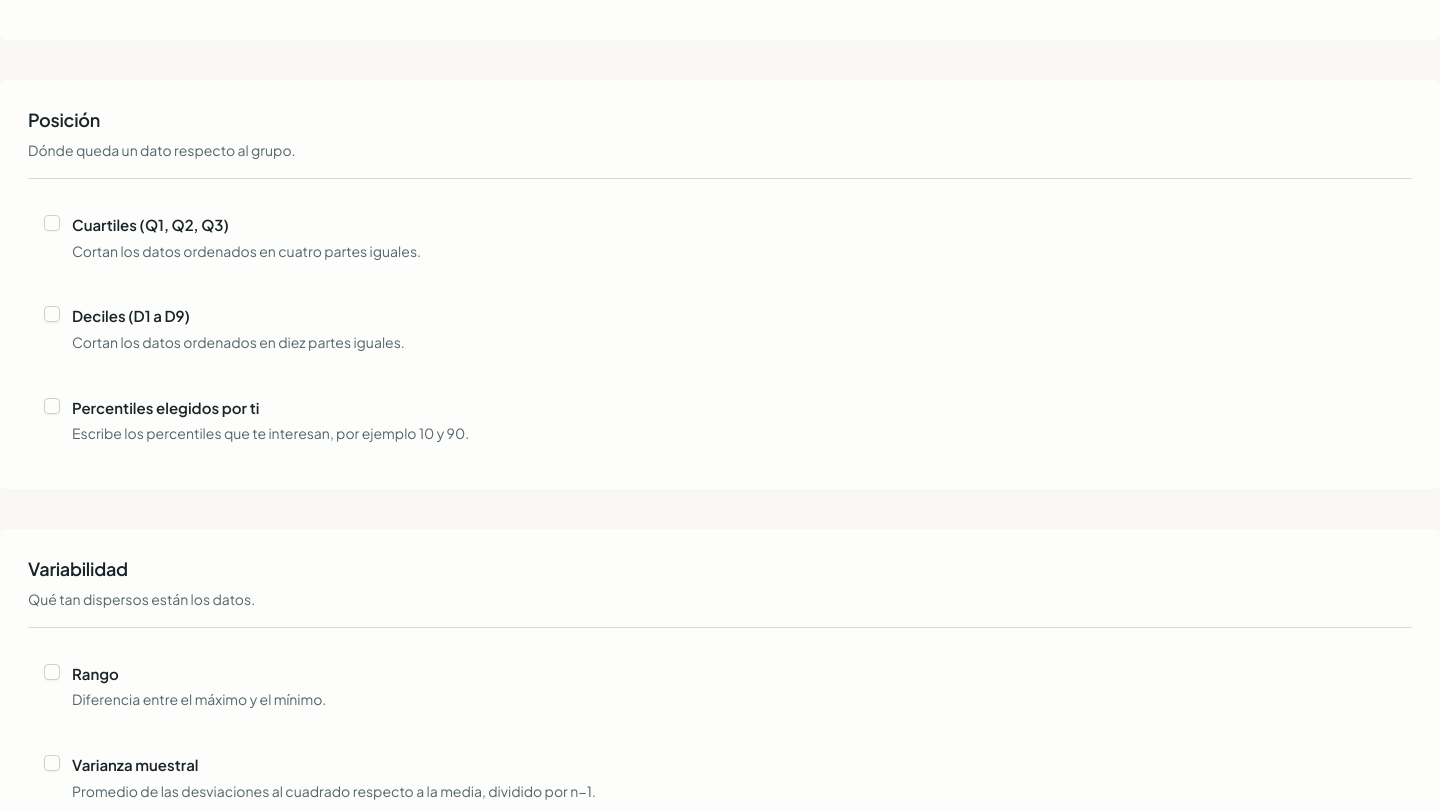
Test: StepCalculations › pide la lista de percentiles cuando se marca la opción
(page scrolled)
Click the checkbox named "Percentiles elegidos por ti" next to "Percentiles elegidos por ti" at {"x": 52, "y": 406}, box [44,398,60,414]
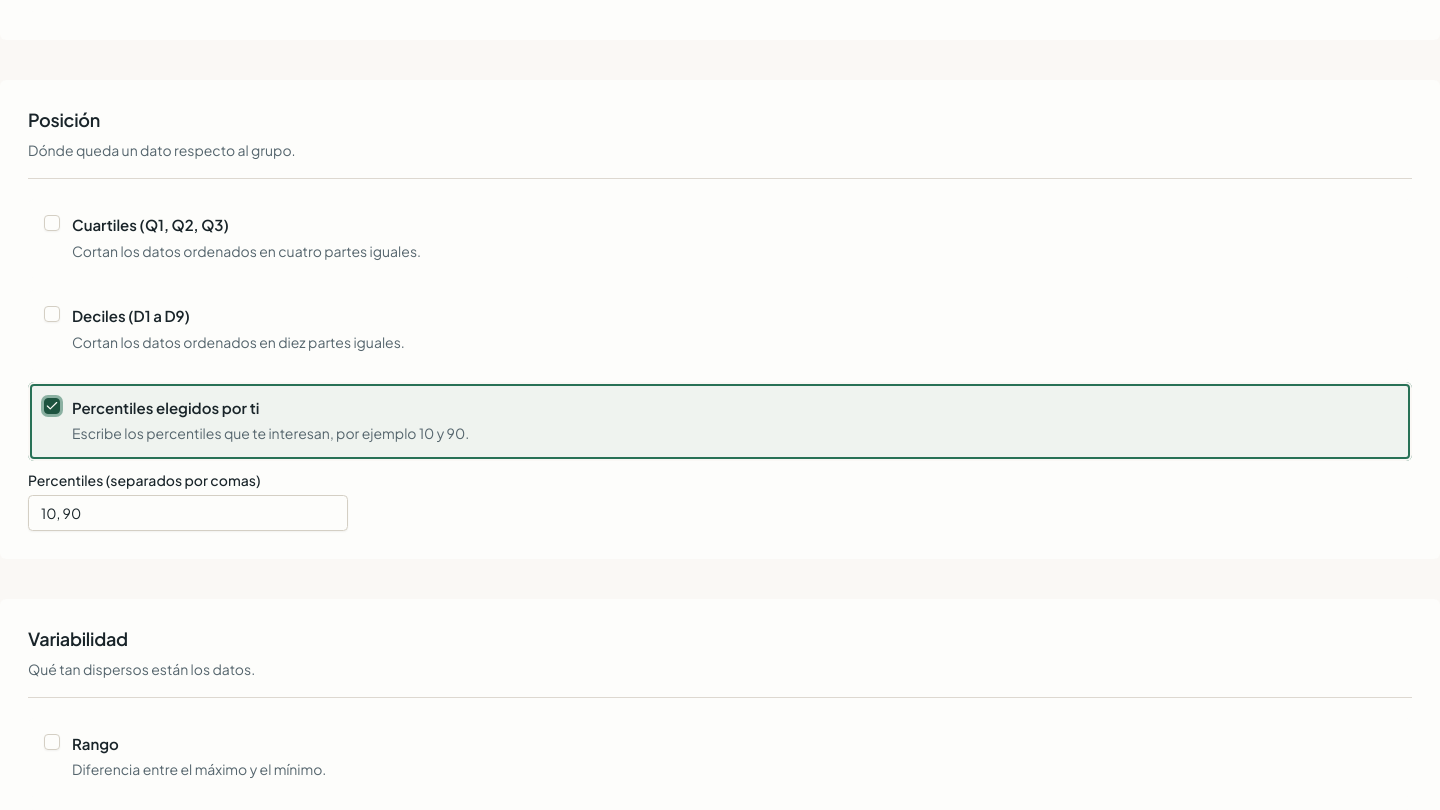
Replace the text in the field labelled "Percentiles (separados por comas)" with "abc" at {"x": 188, "y": 513}, box [28,495,348,531]
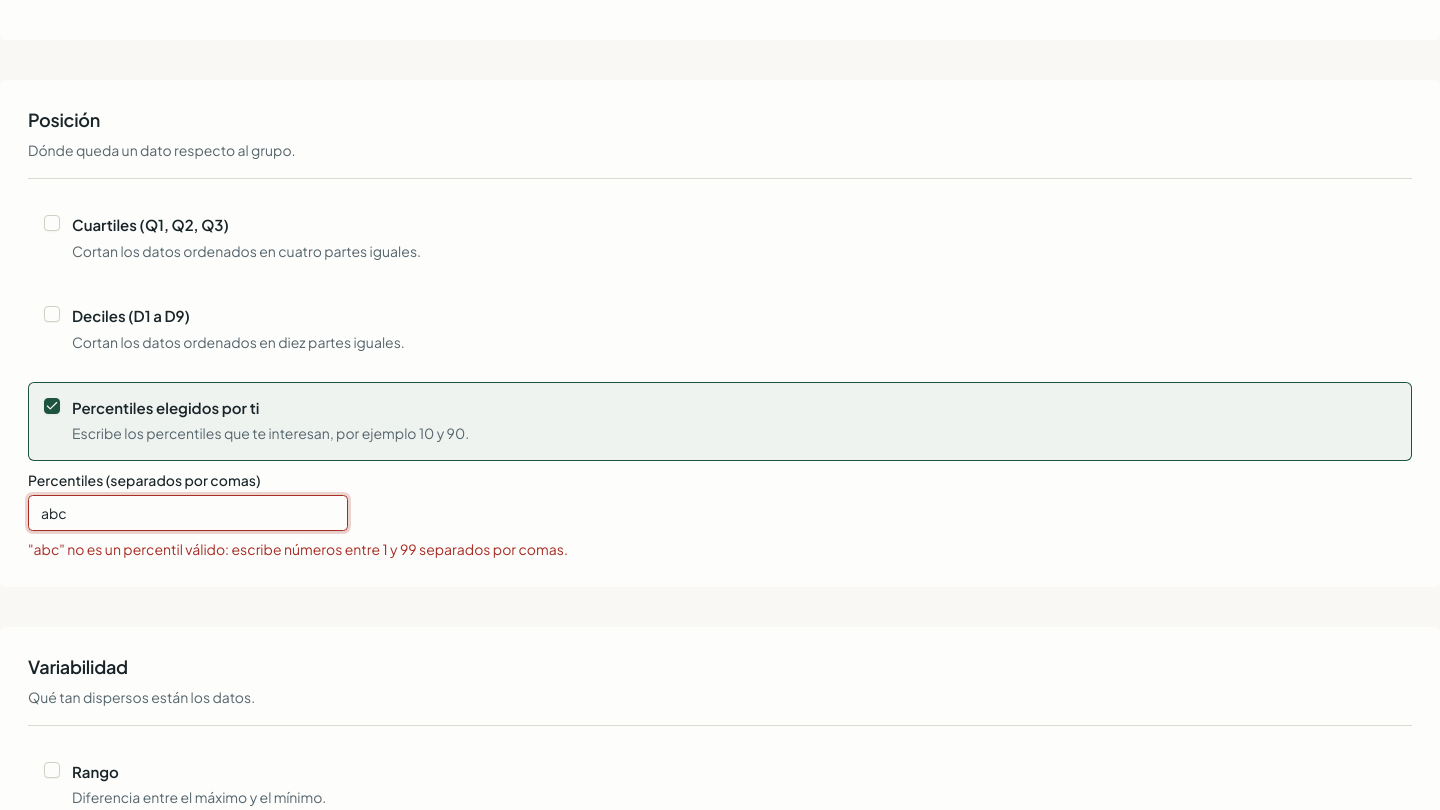
expect the message shows "no es un percentil válido": met, box [28,540,568,558]
